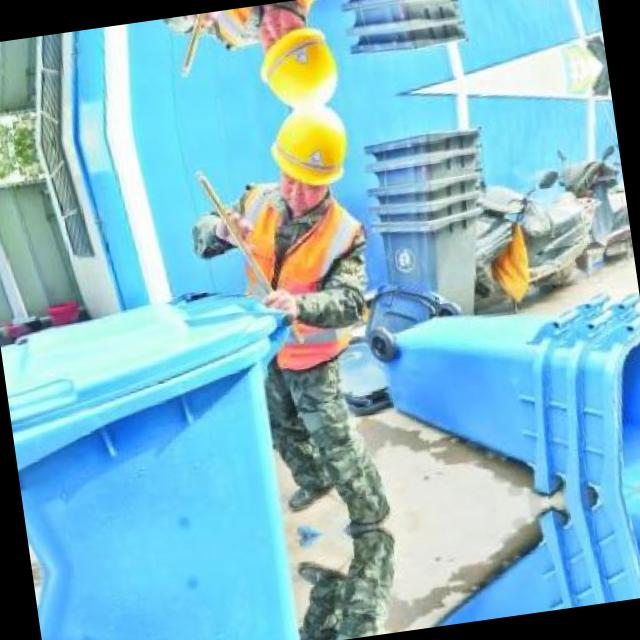helmet: (260, 99, 368, 219), (245, 0, 355, 114)
